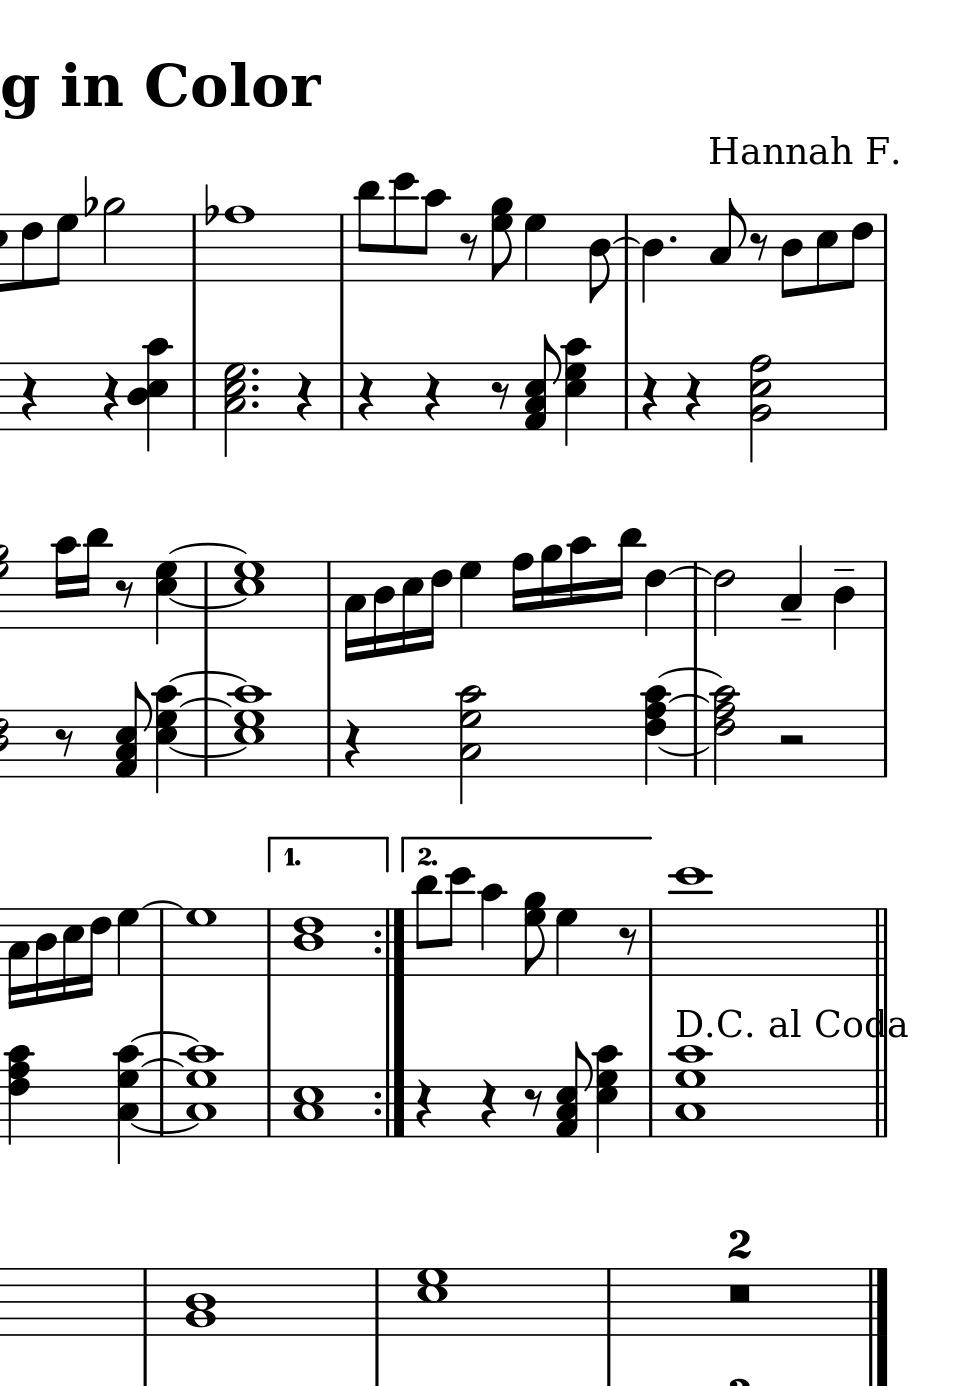16_10: (566, 534, 592, 630), (51, 534, 76, 629)
16_11: (609, 526, 641, 632), (76, 527, 107, 631)
16_3: (342, 559, 366, 663), (6, 907, 29, 1008)
16_4: (33, 907, 56, 1004), (371, 559, 393, 657)
16_5: (400, 559, 423, 653), (60, 905, 83, 1001)
16_6: (422, 559, 453, 650), (82, 906, 112, 997)
16_8: (509, 552, 533, 630)
16_9: (538, 543, 561, 630)
1_12: (670, 864, 707, 980)
1_2_4: (186, 1267, 215, 1337)
1_3_5: (293, 1068, 323, 1139)
1_4_6: (292, 908, 323, 978)
1_5_7: (415, 1266, 450, 1339), (232, 560, 267, 631)
1_7: (183, 907, 216, 976)
1_8: (223, 201, 255, 284)
1_th: (178, 1043, 225, 1140), (228, 682, 274, 779), (666, 1042, 711, 1139)
2_6: (711, 560, 735, 636)
2_9: (101, 196, 126, 283)
2_th: (455, 684, 485, 802), (708, 684, 740, 784), (746, 350, 772, 464), (222, 361, 249, 458)
4_10: (478, 881, 504, 978)
4_3: (778, 544, 803, 630)
4_4: (638, 212, 664, 304), (832, 560, 856, 650)
4_5_7: (153, 559, 178, 643)
4_6: (642, 560, 666, 638)
4_7: (522, 212, 547, 283), (553, 906, 578, 977), (457, 559, 482, 630), (115, 907, 138, 978)
4_th: (126, 336, 175, 452), (108, 1043, 146, 1161), (1, 1043, 37, 1147), (560, 336, 593, 448), (592, 1043, 624, 1156), (148, 684, 180, 791), (640, 684, 669, 786)
8_10: (415, 188, 447, 283)
8_11: (413, 873, 439, 978), (355, 179, 382, 283)
8_12: (442, 865, 473, 979), (390, 171, 417, 284)
8_3: (707, 196, 745, 283)
8_4: (585, 212, 611, 305), (778, 212, 803, 300)
8_5: (813, 212, 838, 294)
8_6: (845, 212, 874, 290), (20, 212, 43, 290)
8_7: (49, 213, 78, 286)
8_7_9: (490, 196, 515, 284), (523, 890, 546, 979)
8_th: (555, 1040, 592, 1140), (526, 333, 563, 432), (115, 681, 152, 779)
DSalcoda: (672, 1007, 912, 1041)
Double_barline: (867, 908, 894, 976), (868, 1070, 893, 1137)
Final_barline: (862, 1266, 892, 1336)
Flat: (202, 182, 218, 227), (82, 174, 97, 218)
Prima_volta: (264, 835, 395, 874)
Rests2: (775, 731, 807, 748)
Rests4: (291, 368, 315, 424), (18, 369, 42, 423), (99, 369, 122, 425), (354, 368, 378, 424), (421, 369, 443, 425), (681, 368, 703, 423), (413, 1077, 435, 1130), (638, 369, 660, 424), (342, 716, 363, 771), (478, 1076, 498, 1131)
Rests8: (489, 379, 512, 413), (522, 1086, 544, 1120), (53, 727, 76, 758), (458, 230, 479, 263), (113, 578, 135, 611), (617, 925, 638, 958), (750, 230, 769, 262)
RightRepeatSign: (371, 909, 409, 975), (371, 1069, 407, 1138)
Seconda_volta: (398, 834, 653, 870)
Single_barline: (597, 1269, 620, 1334), (259, 1069, 280, 1137), (259, 909, 279, 976), (641, 1070, 661, 1137), (319, 561, 338, 629), (367, 1268, 386, 1336), (874, 710, 893, 777), (641, 909, 660, 976), (183, 362, 202, 429), (136, 1269, 154, 1337), (333, 363, 351, 429), (153, 910, 171, 977), (154, 1070, 172, 1137), (687, 564, 704, 634), (319, 710, 337, 776), (197, 561, 214, 629), (333, 214, 350, 280), (185, 215, 202, 281), (618, 363, 634, 429), (877, 561, 893, 628), (877, 363, 892, 429), (878, 213, 892, 283)
Slur: (167, 541, 244, 556), (169, 596, 247, 610), (170, 670, 248, 683), (167, 747, 244, 759), (660, 667, 724, 680), (668, 563, 713, 578), (181, 696, 229, 707), (660, 747, 711, 757), (143, 1058, 183, 1070), (668, 694, 708, 704), (143, 900, 182, 910), (612, 236, 640, 246)
dot: (249, 364, 264, 379), (666, 233, 678, 246), (249, 383, 261, 396), (249, 398, 260, 410)
